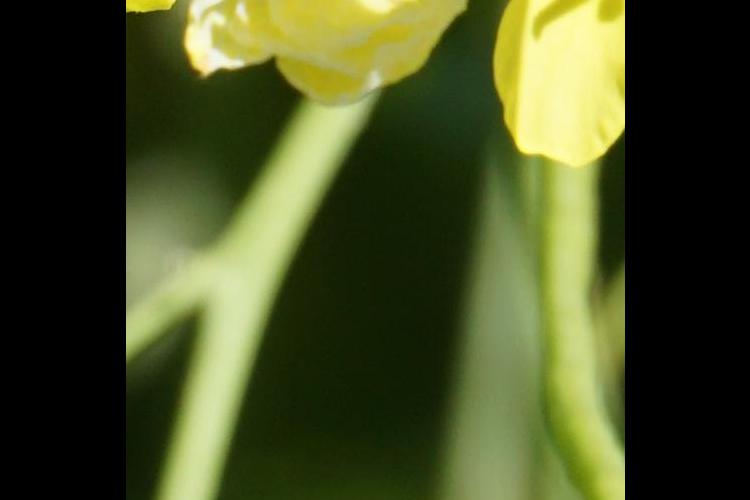yellow: (174, 1, 458, 108)
